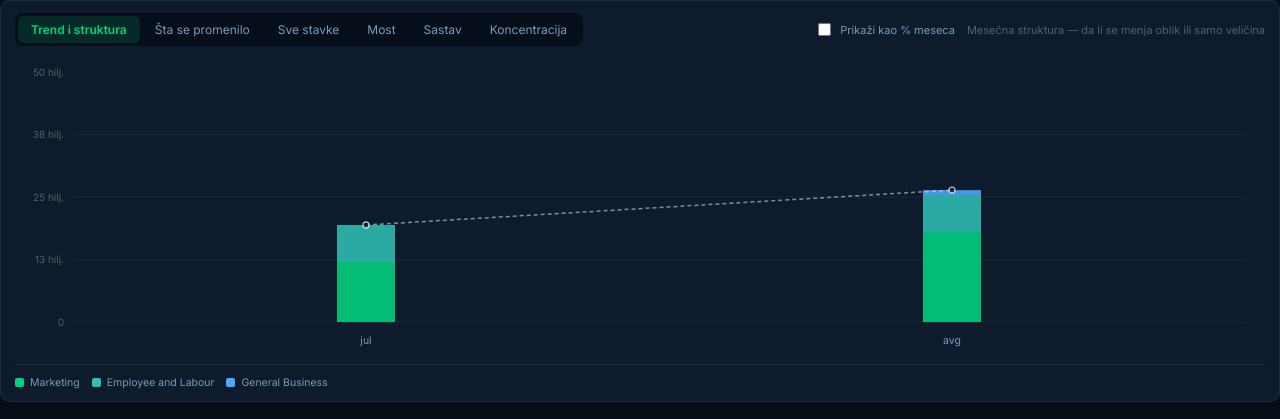
Test: the panels that read a level › switches the heatmap legend to shares when scaled per line
Click the button "Sve stavke": (308, 30) [265, 16, 352, 43]
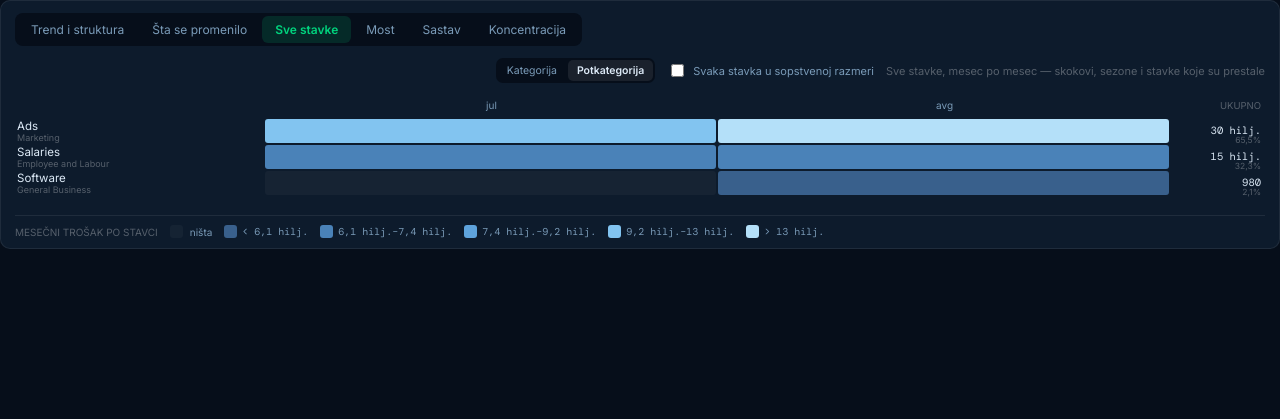
Click the checkbox labelled "Svaka stavka u sopstvenoj razmeri": (678, 70) [671, 64, 684, 77]
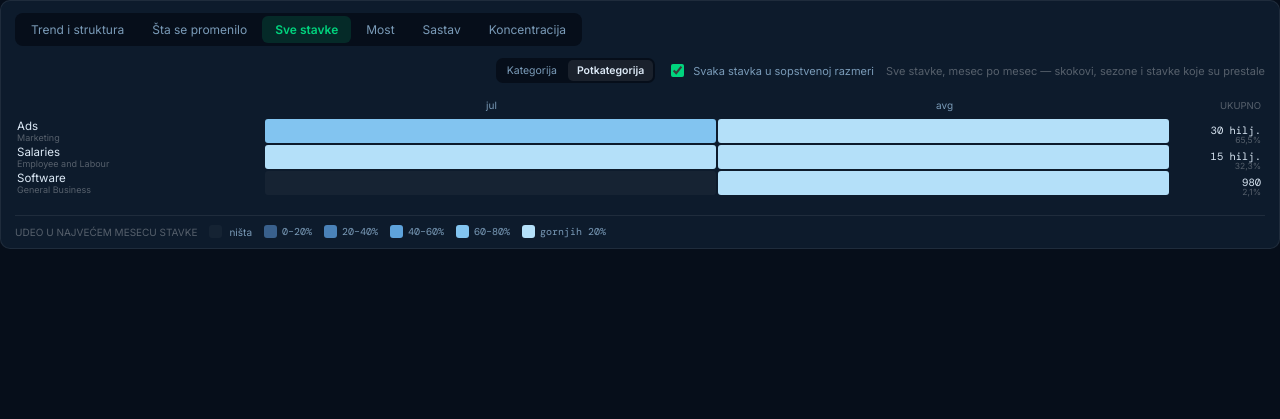
Check: the text "UDEO U NAJVEĆEM MESECU STAVKE" is shown, box [15, 226, 198, 238]
